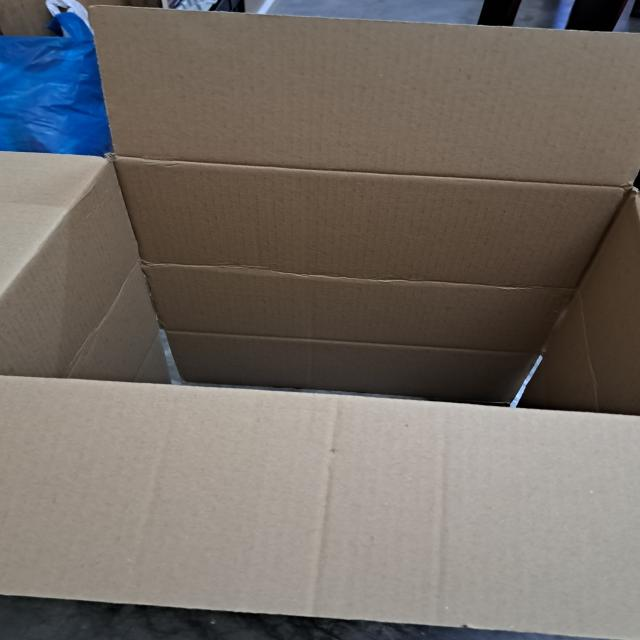cardboard: (0, 6, 640, 640)
plastic bag: (0, 10, 108, 154)
